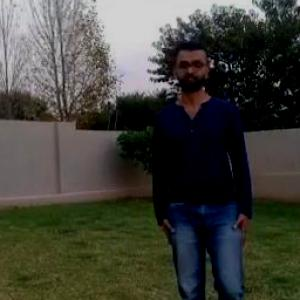follow: (148, 29, 260, 299)
